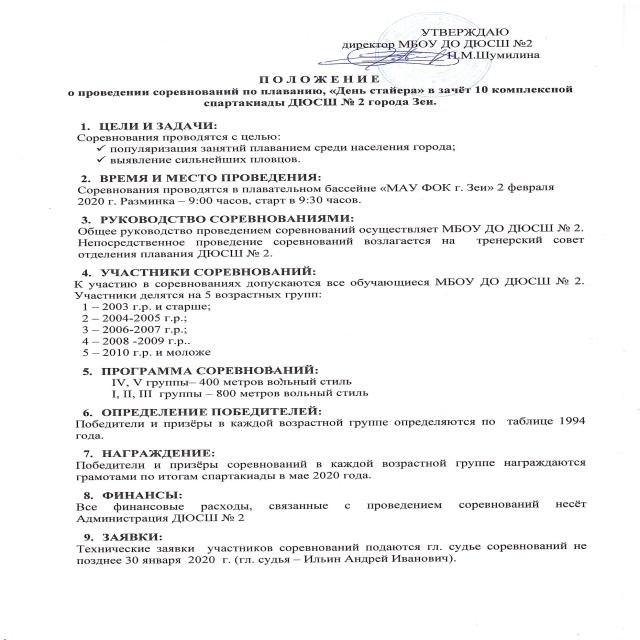stamps: (356, 9, 507, 130)
